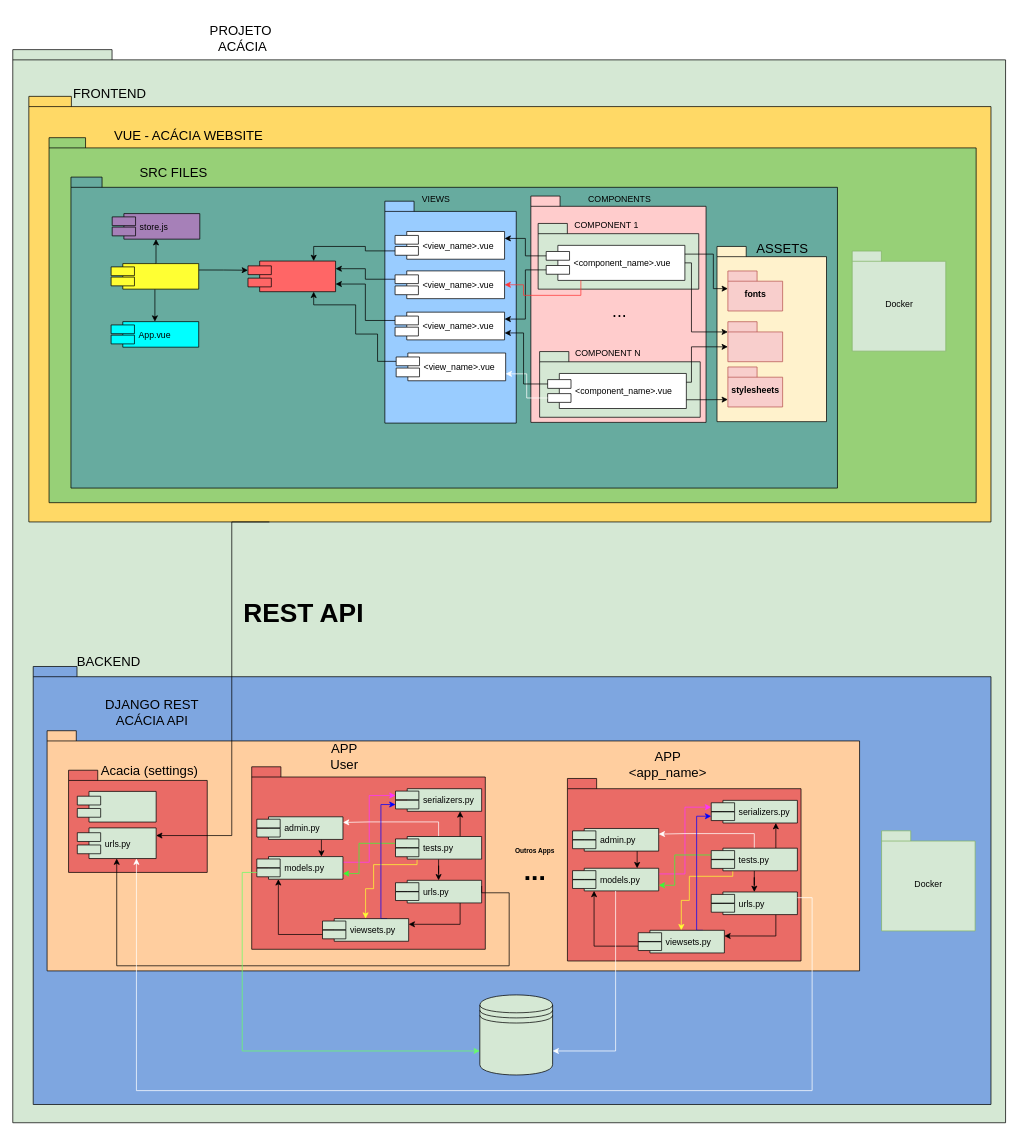
This 1033x1145 diagram has some shape labels left out. Each missing label, with the box of its shape:
DB: (479, 994, 553, 1075)
images: (727, 321, 783, 362)
main.js: (110, 263, 199, 289)
router.js: (247, 260, 336, 292)
settings.py: (77, 791, 156, 822)
